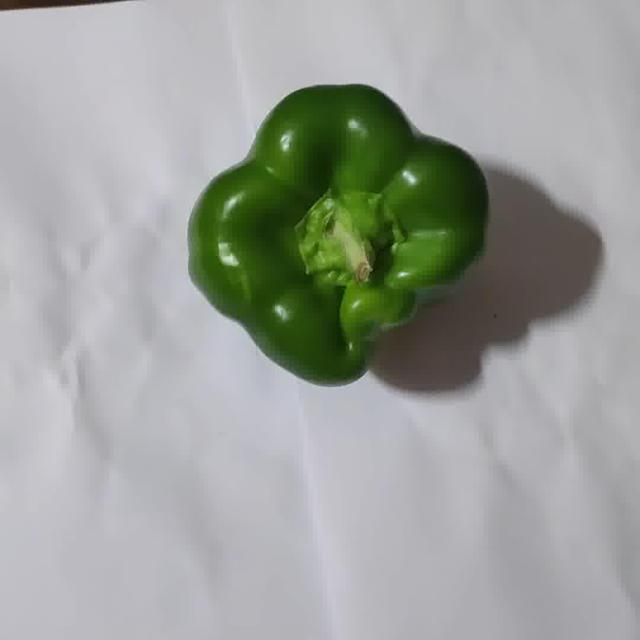Bell Pepper: (189, 85, 487, 385)
